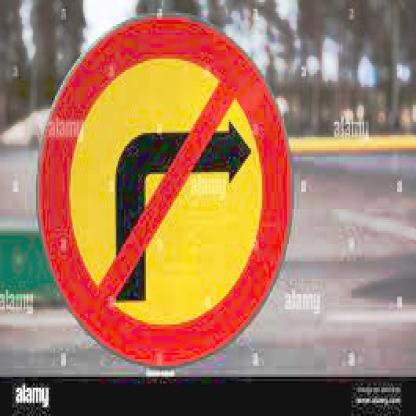No right turn: (41, 19, 295, 374)
